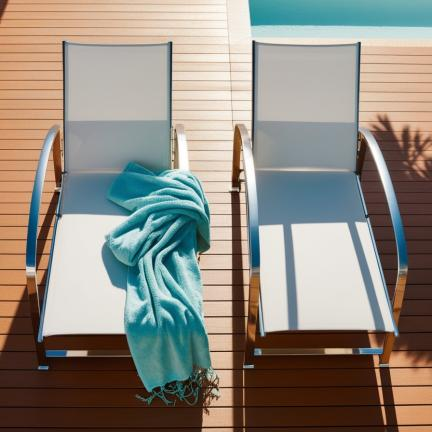empty chair: (232, 43, 408, 369)
occupied chair: (27, 41, 219, 407)
